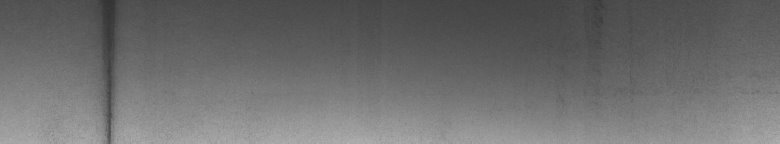hd: (100, 4, 120, 136)
